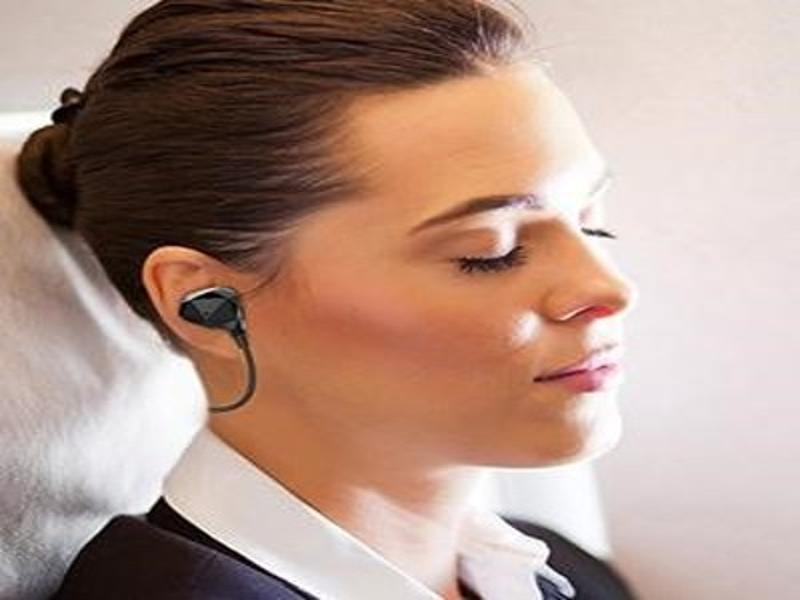headphone: (177, 283, 247, 334)
